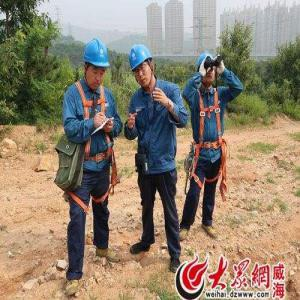blue: (83, 38, 110, 91), (130, 43, 155, 89), (198, 52, 216, 88)
